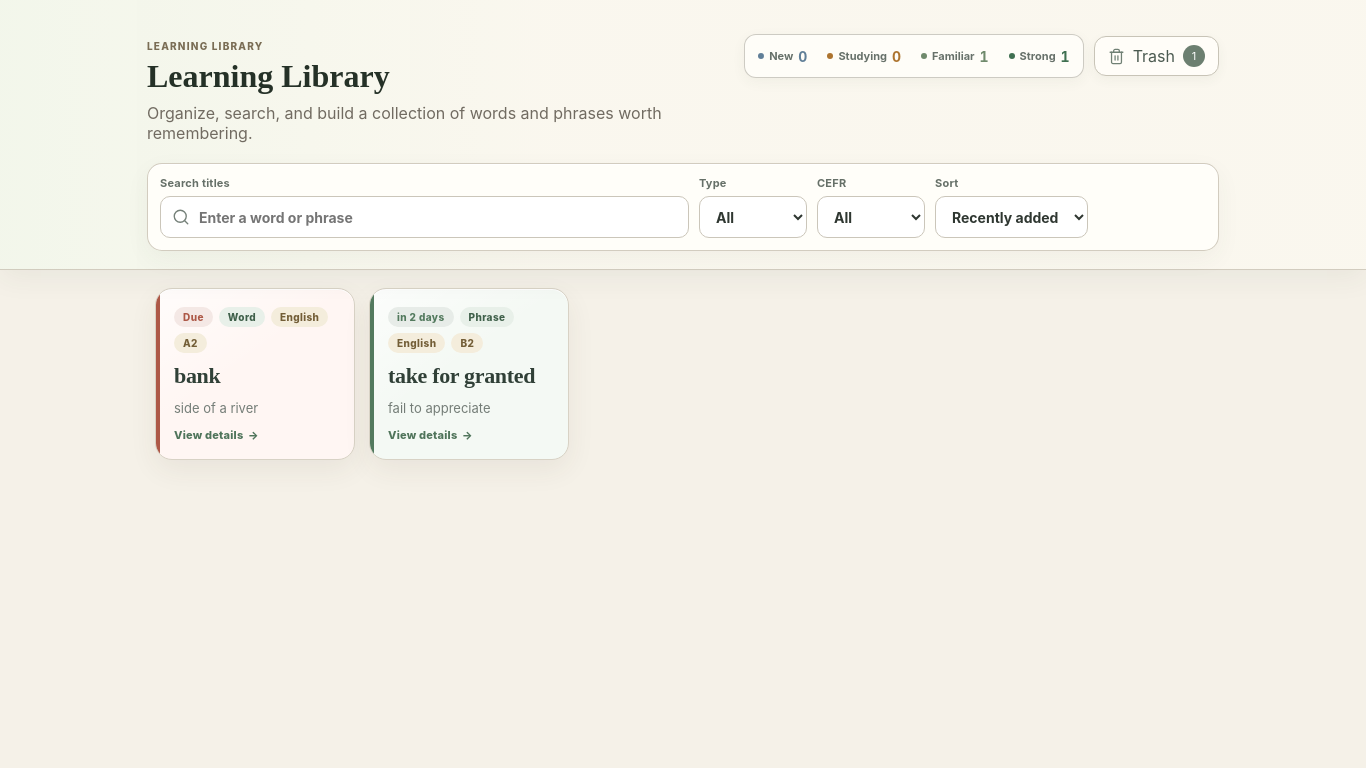
Scenario: LearningLibraryWorkspace › shows compact review status and history in learning item detail
The width and height of the screenshot is (1366, 768).
Click the button "Due Word English A2 bank side of a river View details →".
click(255, 374)  # box [155, 288, 355, 460]
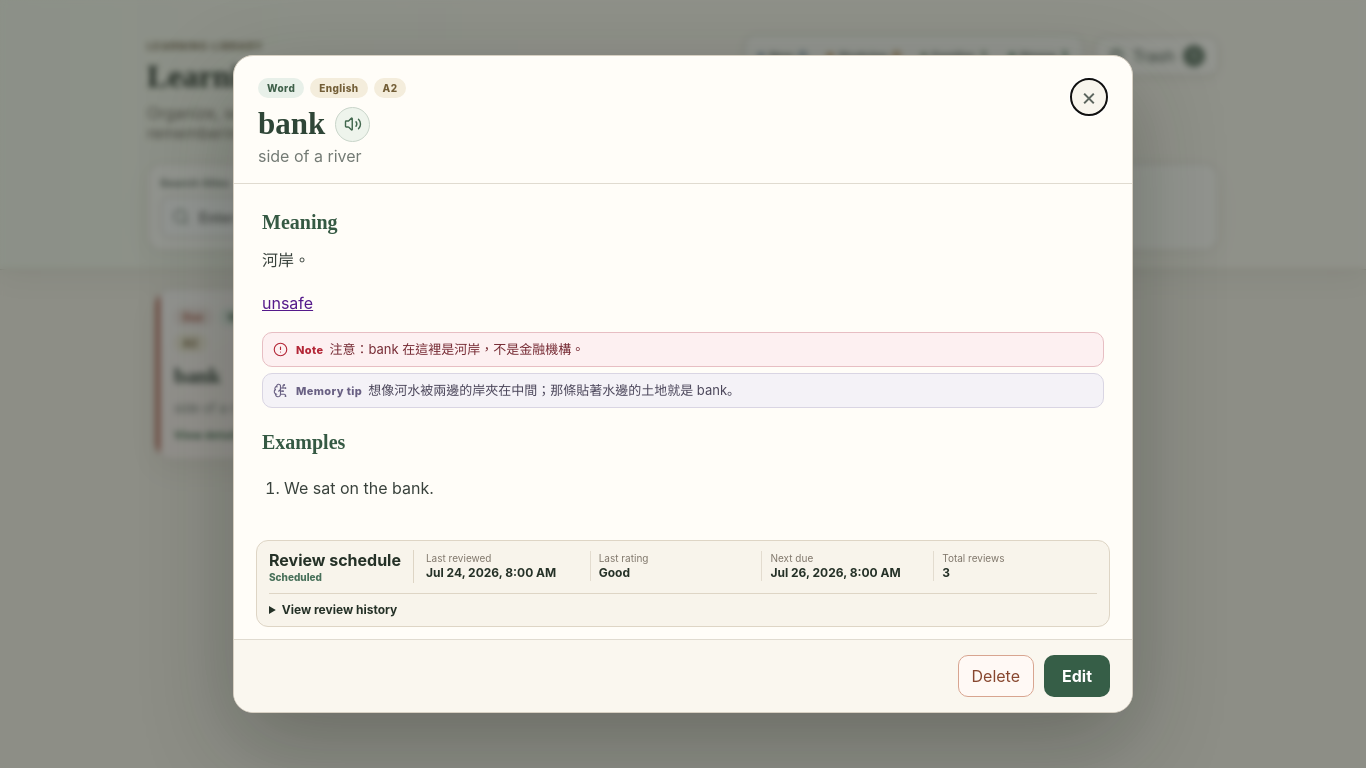
Result: the element named "Learning caution" shows "bank 在這裡是河岸" at [330, 341, 584, 357]
Result: the element "Memory tip" shows "河水被兩邊的岸夾在中間" at [368, 382, 740, 398]
Result: the icon next to "Memory tip" is shown at [273, 383, 288, 398]
Click the heading "View review history".
click(340, 609)  # box [282, 602, 397, 616]
(page scrolled)
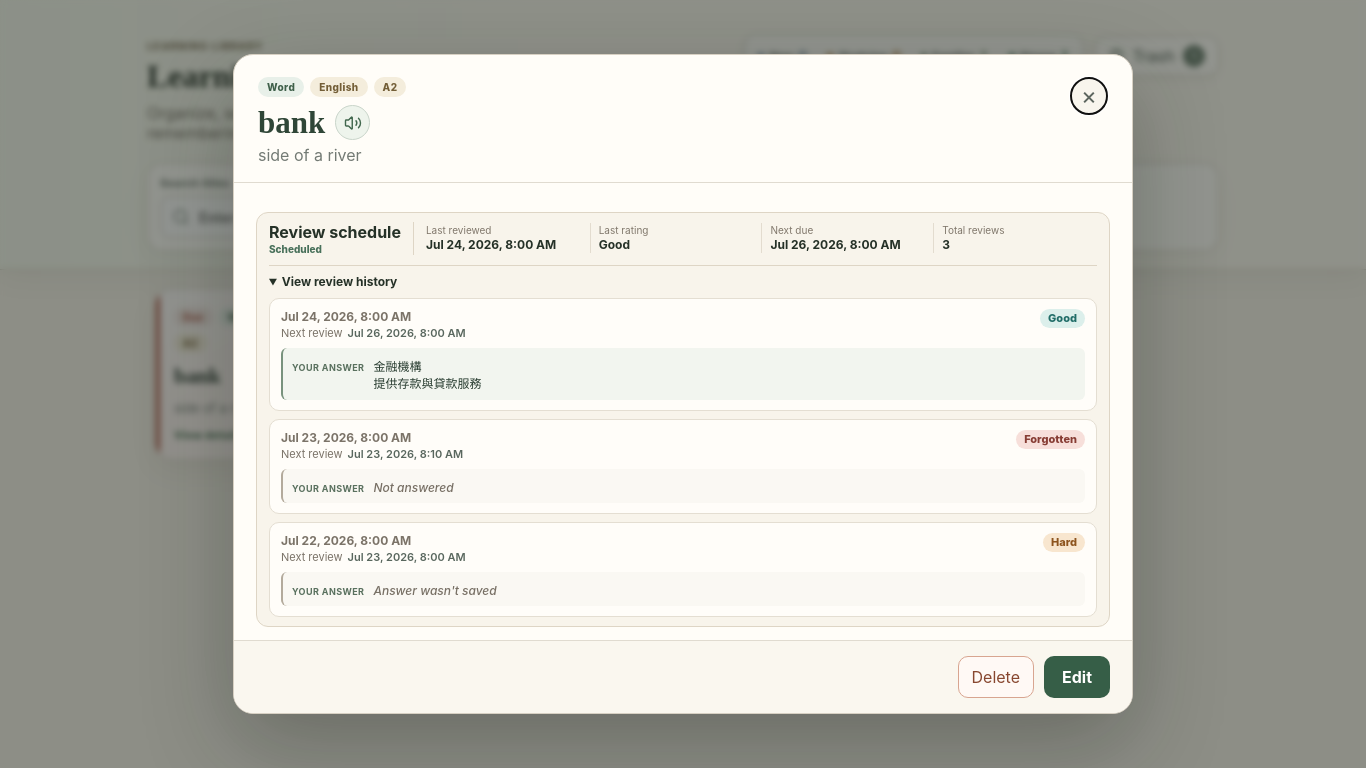
Result: the text "Your answer 金融機構 提供存款與貸款服務" is shown at [281, 348, 1085, 400]
